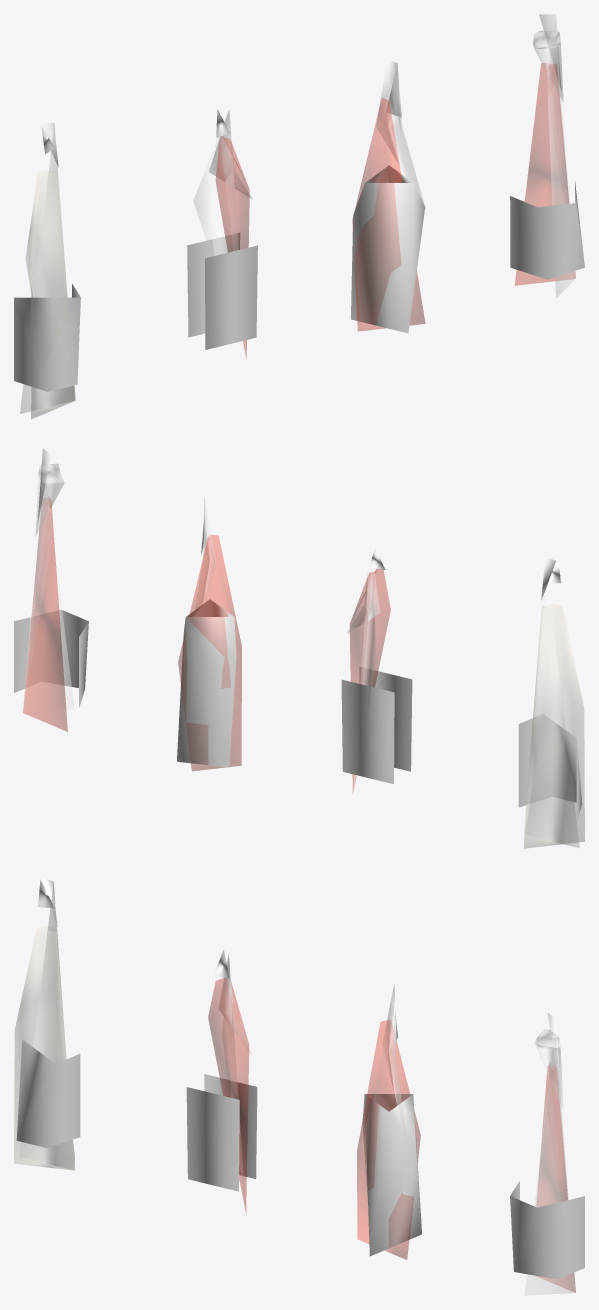
The model's file is wine_bottles_01.lod1.glb.
The picture shows the model from 3 angles, top to bottom: view 1: azimuth 30°, elevation 25°; view 2: azimuth 150°, elevation 25°; view 3: azimuth 330°, elevation 25°; orthographic projection.
Visible parts, largest first — view 1: wine_bottles_01_bordeaux, wine_bottles_01_burgundy, wine_bottles_01_alsace, wine_bottles_01_champagne; view 2: wine_bottles_01_bordeaux, wine_bottles_01_alsace, wine_bottles_01_burgundy, wine_bottles_01_champagne; view 3: wine_bottles_01_bordeaux, wine_bottles_01_alsace, wine_bottles_01_burgundy, wine_bottles_01_champagne.
Boxes of the visible parts, x1,y1,x2,y2 form: wine_bottles_01_bordeaux: (20, 14, 575, 413); wine_bottles_01_burgundy: (351, 98, 425, 333); wine_bottles_01_alsace: (14, 170, 80, 419); wine_bottles_01_champagne: (510, 181, 584, 279); wine_bottles_01_bordeaux: (23, 448, 579, 847); wine_bottles_01_alsace: (518, 604, 584, 848); wine_bottles_01_burgundy: (177, 535, 241, 770); wine_bottles_01_champagne: (14, 610, 88, 707); wine_bottles_01_bordeaux: (19, 877, 575, 1295); wine_bottles_01_alsace: (14, 926, 80, 1170); wine_bottles_01_burgundy: (357, 1020, 421, 1259); wine_bottles_01_champagne: (510, 1181, 584, 1279).
Size of the model in its own units: 0.6737 by 0.3271 by 0.0776.
